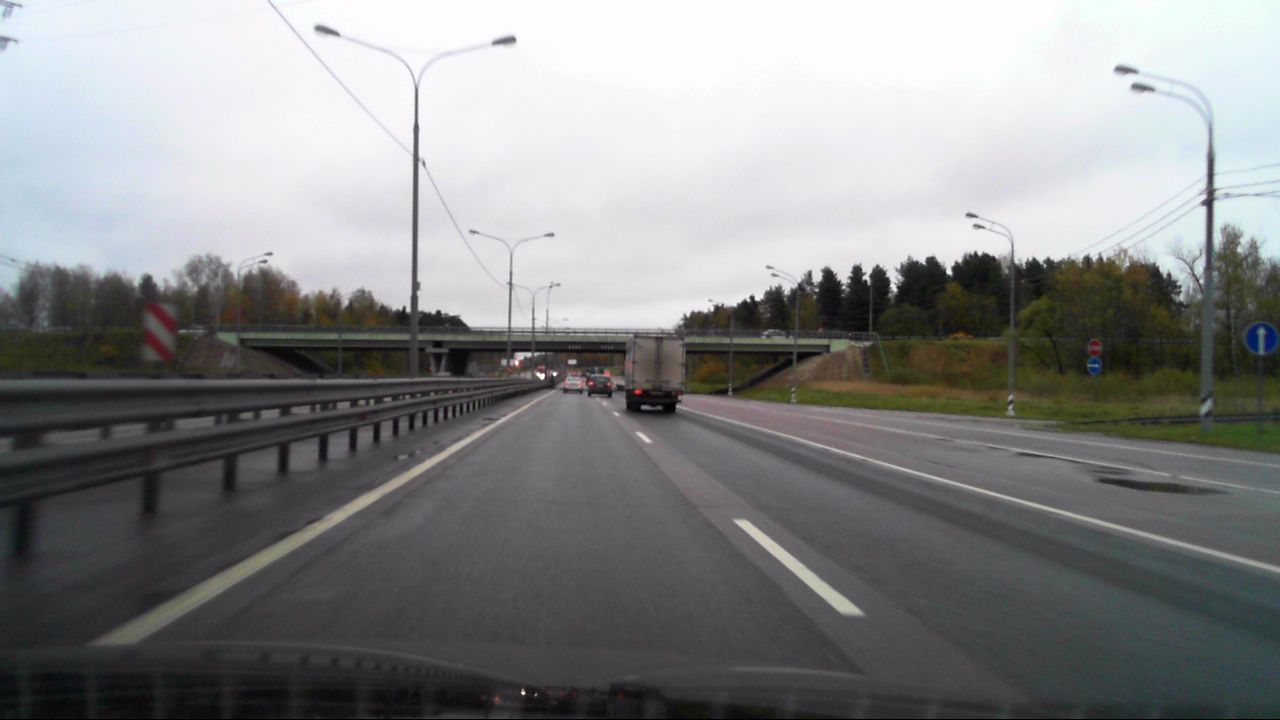Turn Right: (1086, 357, 1102, 375)
